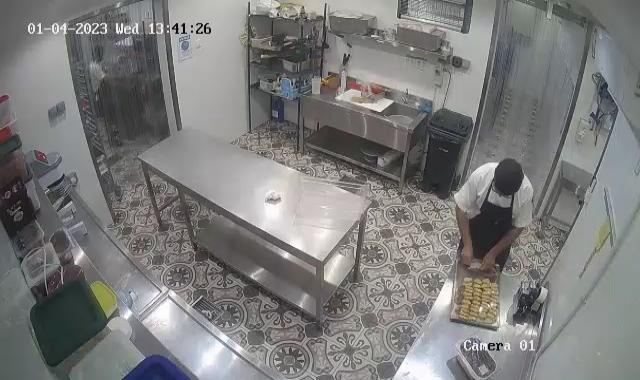no_hairnet: (494, 154, 522, 197)
